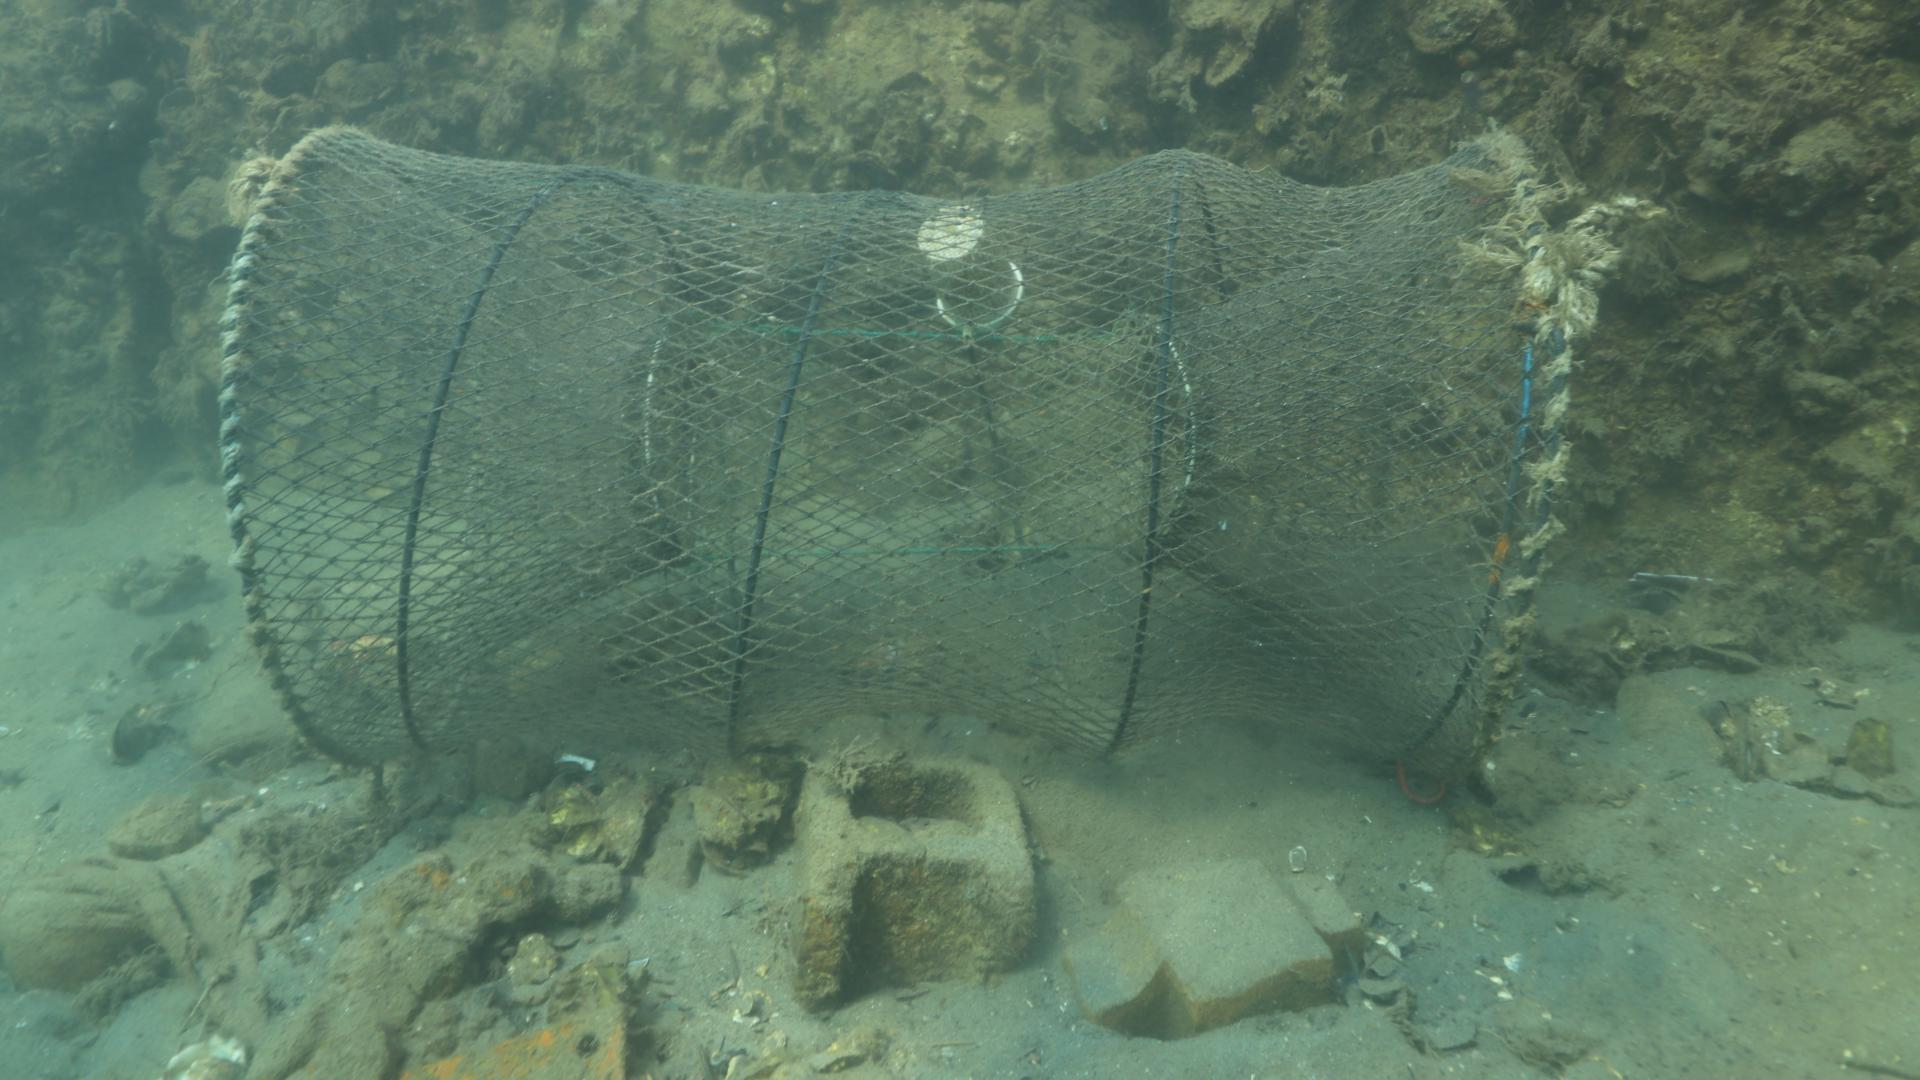spring fish trap: (214, 123, 1572, 785)
